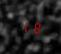eight: (30, 20, 40, 34)
one: (19, 19, 29, 33)
